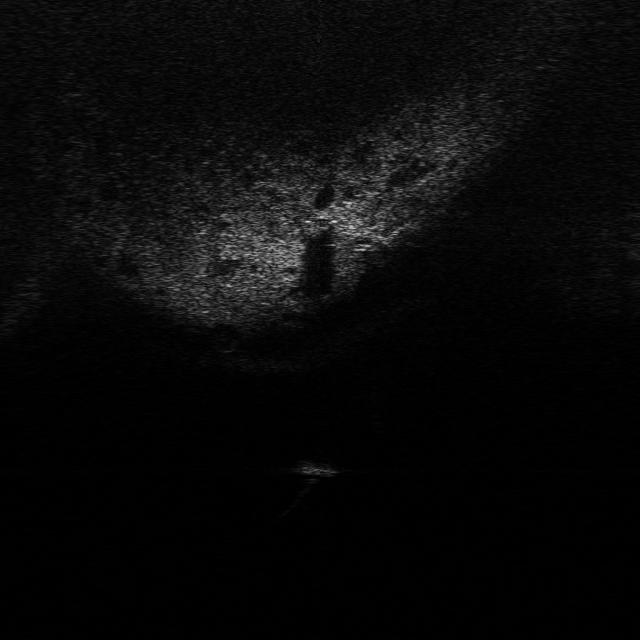cube: (290, 455, 342, 481)
